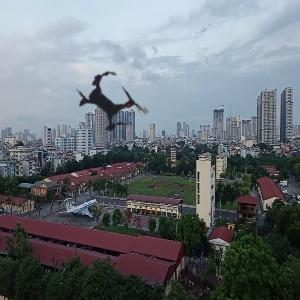drone: (56, 46, 168, 158)
